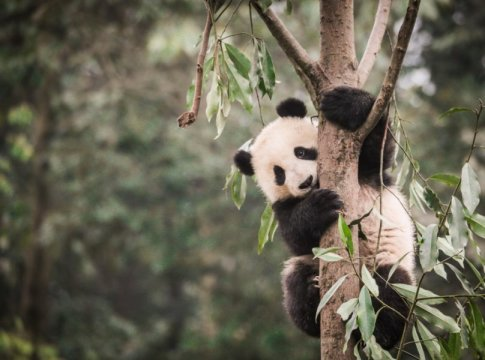panda: (232, 96, 442, 360)
